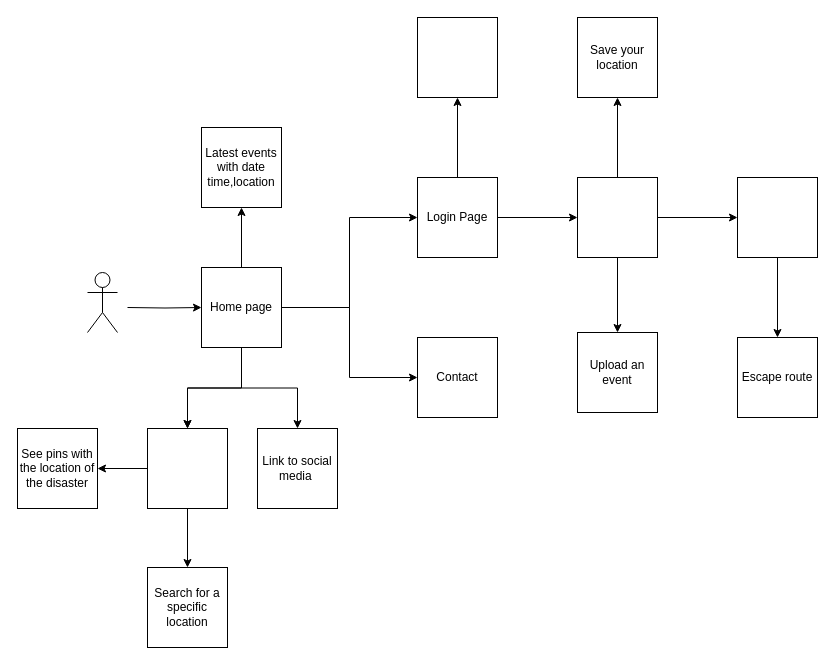
Some shapes in this 835 by 665 pixel diagram are drawn without their labels. The shapes that lost their labels are listed below. From the top down, each one's centre as x and y in pixels, then its label:
[457,57]: Register
[617,217]: Login
[777,217]: Receive notifications
[102,302]: Actor
[187,468]: Map view
